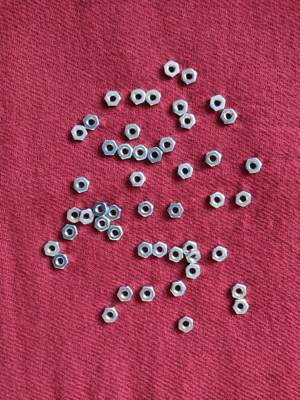nut: (181, 66, 198, 86), (158, 137, 176, 155), (235, 190, 253, 208), (137, 200, 155, 218), (164, 60, 181, 79), (220, 109, 238, 126), (245, 157, 263, 174), (205, 150, 223, 167), (179, 112, 196, 130), (82, 114, 100, 131), (170, 280, 187, 298), (172, 99, 189, 116), (145, 89, 162, 106), (178, 163, 195, 180), (73, 177, 90, 194), (102, 139, 119, 156), (43, 241, 60, 258), (211, 246, 228, 263), (185, 263, 202, 280), (178, 316, 195, 333), (139, 286, 156, 303), (104, 91, 122, 107), (125, 123, 141, 141), (61, 224, 79, 240), (210, 95, 226, 112), (130, 89, 147, 105), (130, 171, 146, 188), (147, 147, 163, 164), (210, 191, 226, 208), (168, 203, 185, 219), (93, 201, 110, 217), (106, 204, 122, 221), (79, 208, 95, 225), (66, 208, 83, 224), (108, 224, 124, 241), (152, 242, 169, 258), (185, 249, 202, 265), (231, 284, 248, 300), (117, 285, 133, 302), (102, 307, 119, 323), (118, 143, 133, 161), (232, 299, 250, 314), (71, 125, 90, 139), (95, 216, 111, 232), (53, 254, 69, 270), (137, 242, 153, 258), (133, 145, 148, 161), (168, 247, 184, 262), (183, 240, 198, 256)
